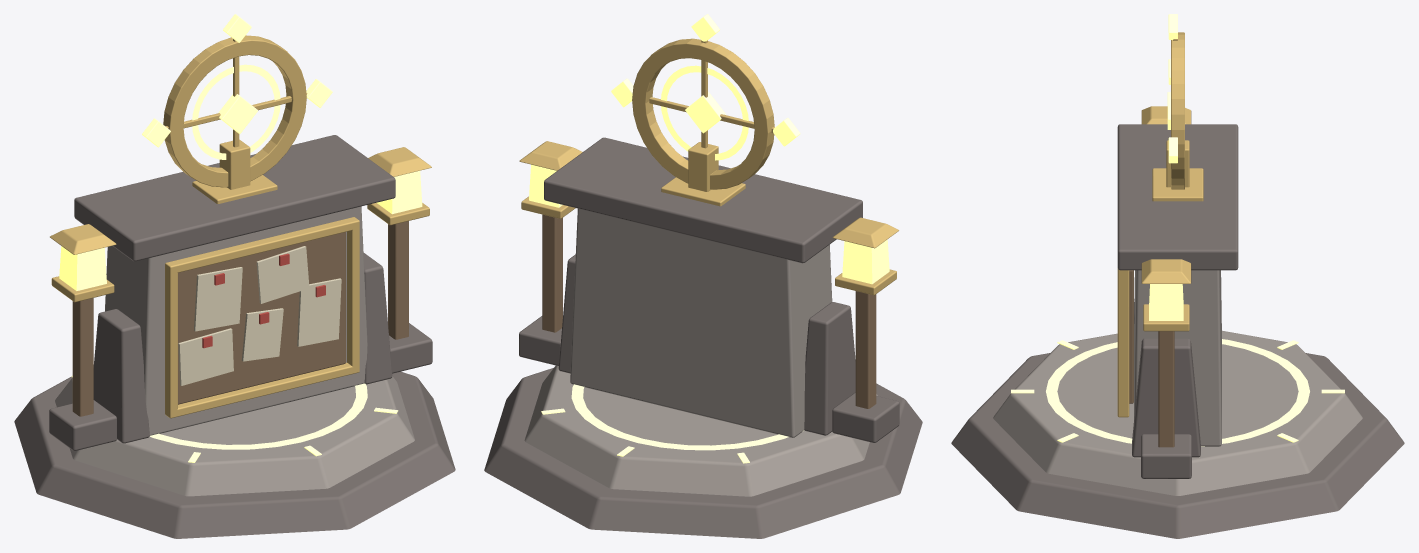
File: expedition_board.glb
3 renders of one model, left to right at view 1: azimuth 30°, elevation 25°; view 2: azimuth 150°, elevation 25°; view 3: azimuth 270°, elevation 25°, orthographic.
Parts seen in each view (by area): view 1: Board_Stone, Board_Wood, Board_Gold, Board_Compass, Board_Paper, Board_Glow; view 2: Board_Stone, Board_Compass, Board_Gold, Board_Wood, Board_Glow; view 3: Board_Stone, Board_Gold, Board_Glow, Board_Compass, Board_Wood.
Part boxes in pixels (x1,y1,x2,y2): Board_Stone: (14,135,455,538); Board_Wood: (72,221,408,416); Board_Gold: (50,139,431,418); Board_Compass: (142,14,332,187); Board_Paper: (178,246,341,385); Board_Glow: (59,170,422,462); Board_Stone: (484,137,922,538); Board_Compass: (611,14,800,189); Board_Gold: (519,141,898,295); Board_Wood: (542,214,876,408); Board_Glow: (529,164,889,463); Board_Stone: (951,124,1404,538); Board_Gold: (1117,106,1203,417); Board_Glow: (1011,284,1344,446); Board_Compass: (1167,14,1184,189); Board_Wood: (1129,270,1174,447).
Size of the model in its own units: 1.95 by 2.04 by 1.95.
